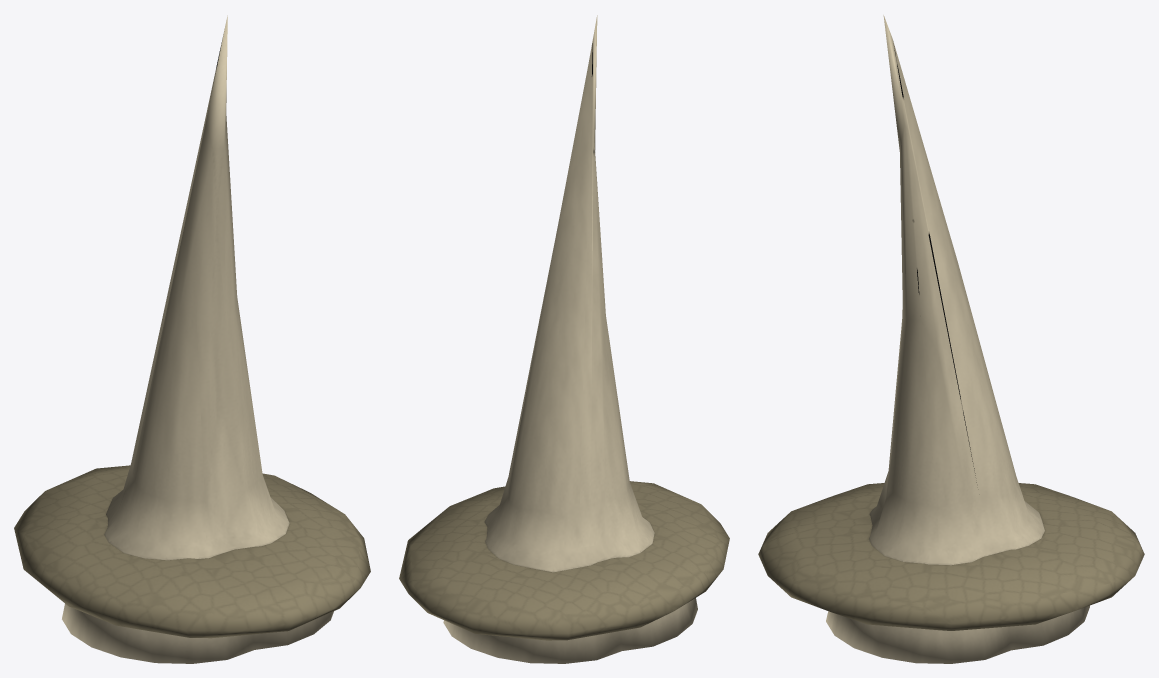
Rendered from cpart_spike.glb.
3 renders of one model, left to right at view 1: azimuth 30°, elevation 25°; view 2: azimuth 150°, elevation 25°; view 3: azimuth 270°, elevation 25°, orthographic. The views are drawn at different scales.
Parts seen in each view (by area): view 1: Spike; view 2: Spike; view 3: Spike.
Part boxes in pixels (x1,y1,x2,y2): Spike: (14,15,370,663); Spike: (399,15,729,663); Spike: (758,15,1144,663).
Bounding box in the file's own units: 0.068 × 0.1355 × 0.08.
Materials: 2 (2 with a texture image).
